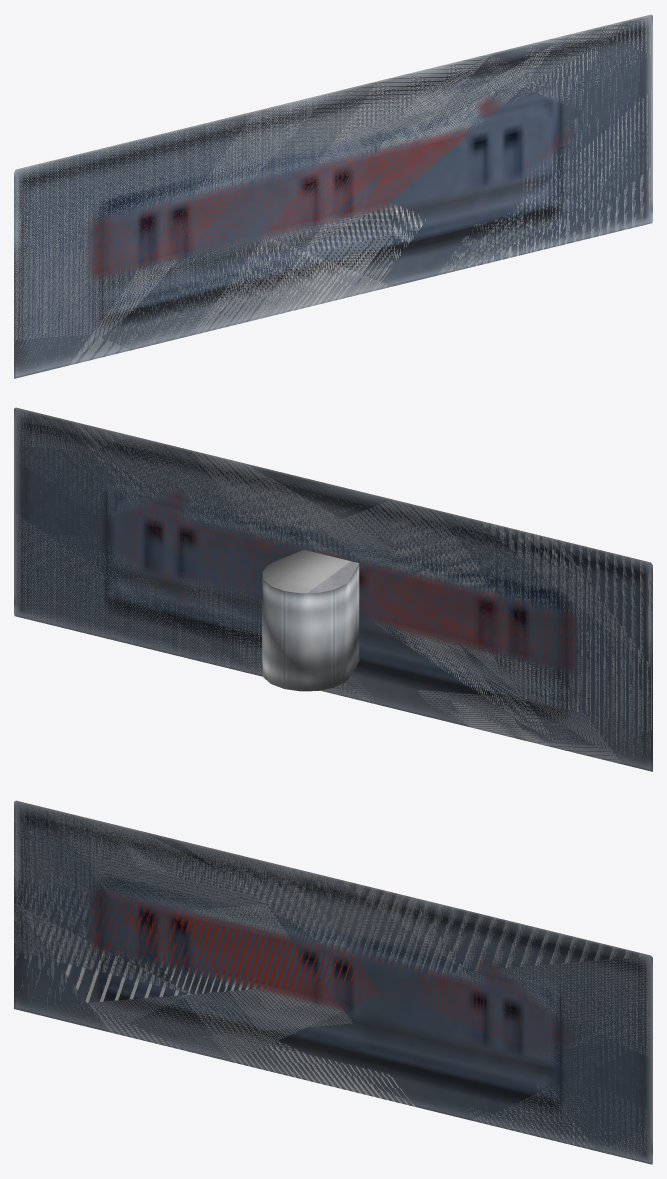
Rendered from Parts_Plate_Sub400_S.fbx.
3 renders of one model, top to bottom at view 1: azimuth 30°, elevation 25°; view 2: azimuth 150°, elevation 25°; view 3: azimuth 330°, elevation 25°, orthographic.
Parts seen in each view (by area): view 1: 982_plate_sub400_S; view 2: 982_plate_sub400_S; view 3: 982_plate_sub400_S.
Boxes of the visible parts, <box> form: 982_plate_sub400_S: <box>14,14,652,378</box>; 982_plate_sub400_S: <box>14,407,652,771</box>; 982_plate_sub400_S: <box>14,800,652,1164</box>.
Bounding box in the file's own units: 0.4 × 0.125 × 0.0532.
